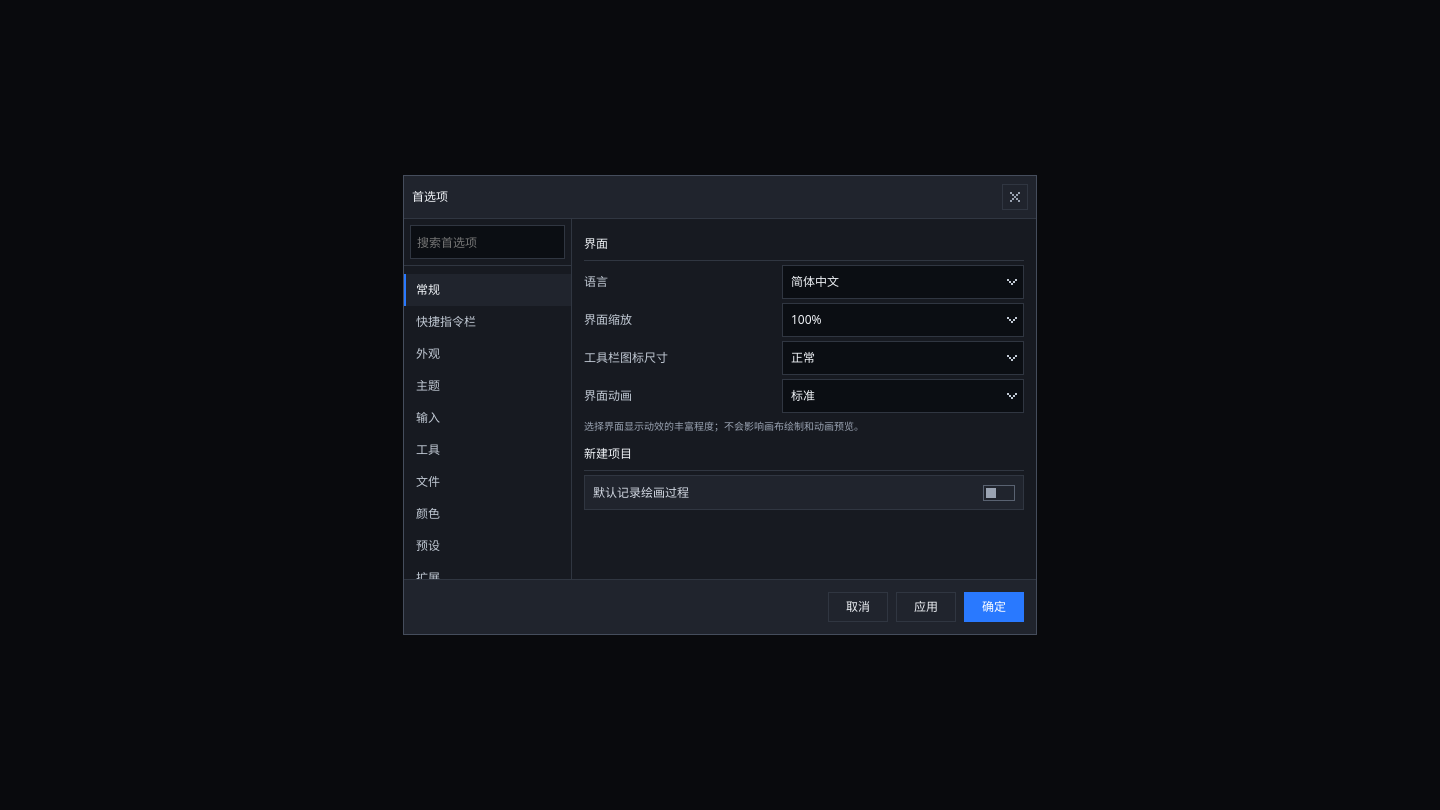
Scenario: PreferencesDialog › uses the shared compact delete button for size and export presets
The image size is (1440, 810).
Click the button "预设".
click(488, 546)  # box [404, 530, 571, 562]
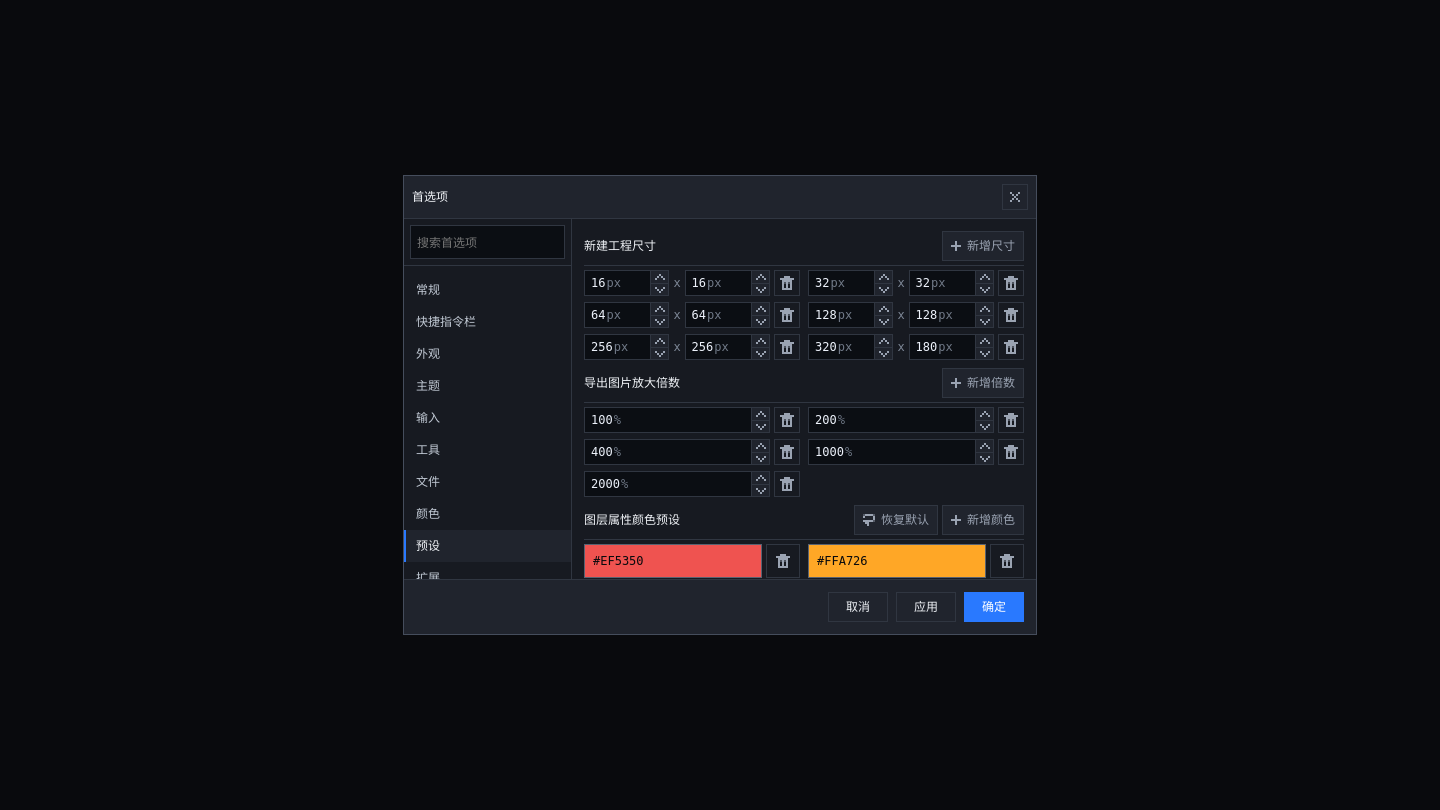
Result: the button named "删除尺寸 16x16" is shown at [774, 270, 800, 296]
